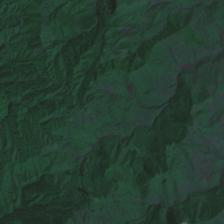landslides: (92, 202, 104, 224), (95, 81, 112, 96), (161, 63, 179, 77), (164, 207, 179, 223), (62, 124, 73, 140), (168, 184, 178, 201), (112, 190, 135, 197), (80, 110, 88, 130), (71, 115, 82, 128), (87, 115, 98, 128), (61, 138, 78, 146), (111, 200, 121, 213), (158, 57, 174, 65), (107, 0, 116, 14), (176, 183, 189, 192), (103, 101, 111, 115), (146, 192, 155, 204)
